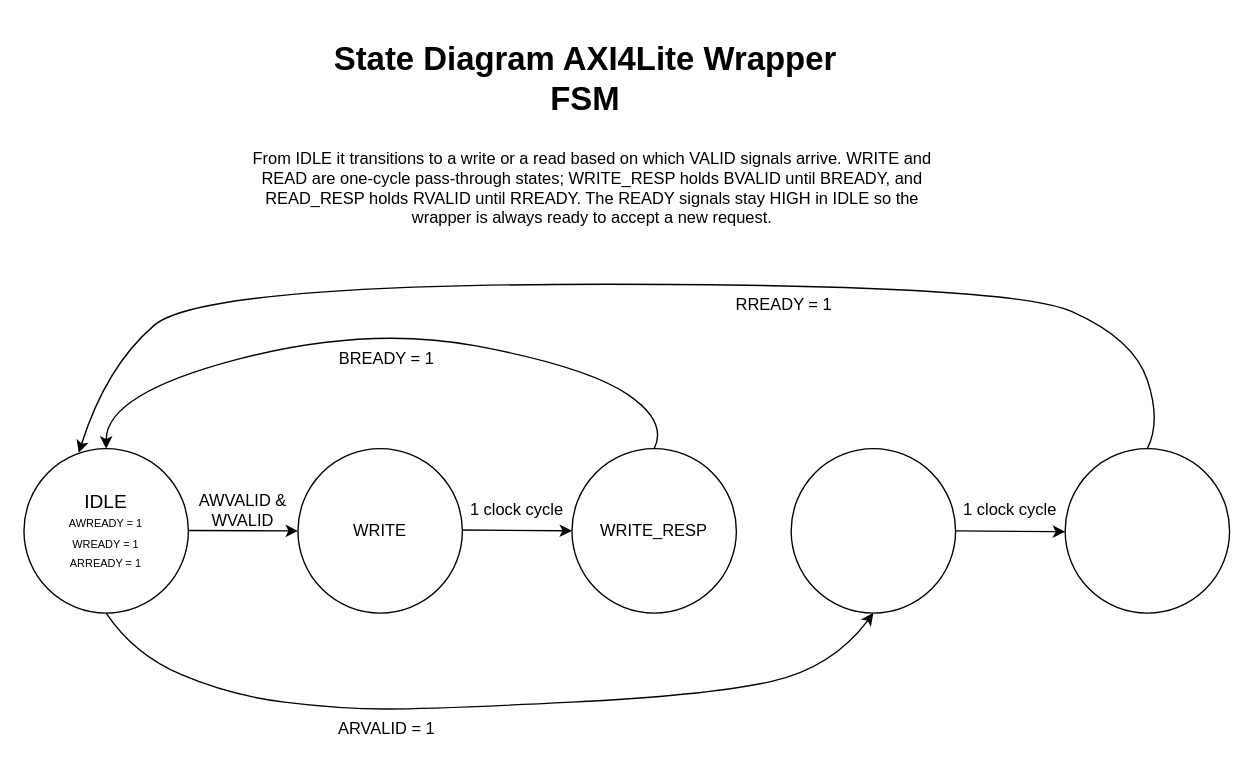
Some shapes in this 1254 by 773 pixel diagram are drawn without their labels. The shapes that lost their labels are listed below. From the top down, each one's box as (x1, y1, x2, y2) in pixels, then its label:
(790, 447, 956, 613): READ
(1064, 447, 1230, 613): READ_RESP
